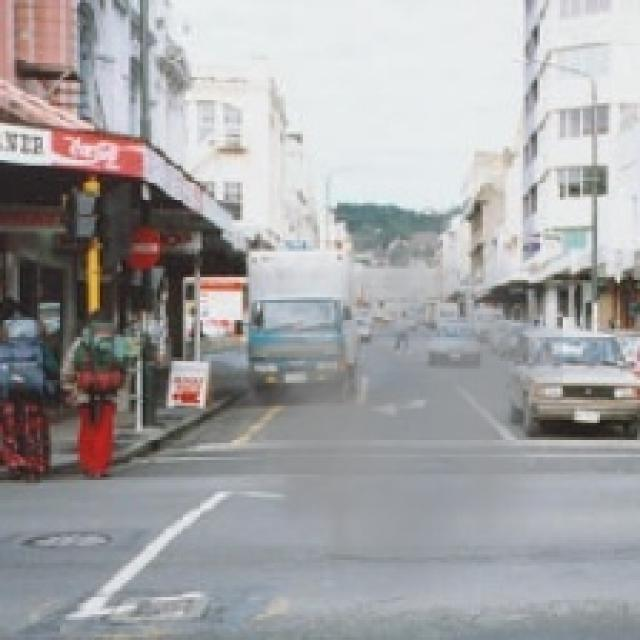smoke: (191, 211, 563, 623)
